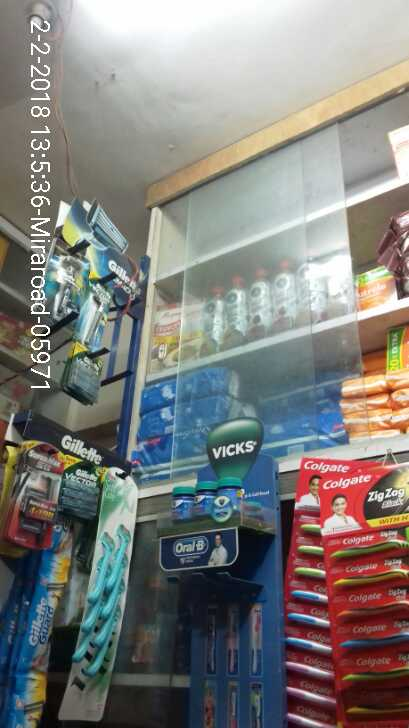beauty: (7, 448, 102, 550), (43, 241, 119, 353)
pharmacy: (168, 481, 234, 524)
